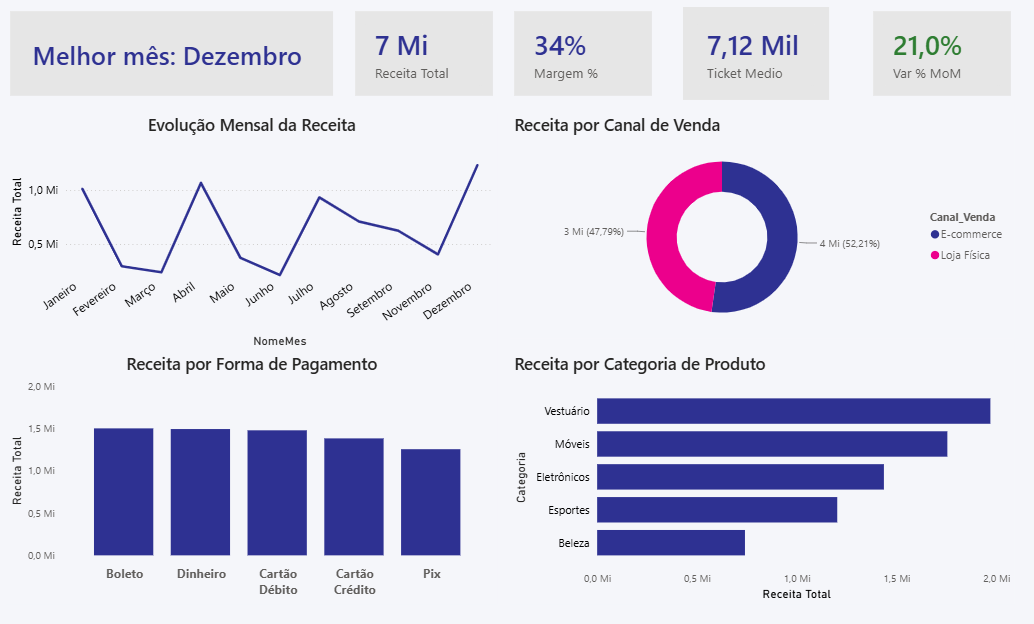

The page's visual inventory and layout, read from the dashboard file:
{"tool":"powerbi","page":{"name":"Visão Geral","canvas":[1280,720],"ordinal":0},"visuals":[{"type":"cardVisual","fields":{"Data":["Medidas.Receita Total"]},"box":[448,0,176,112],"z":0},{"type":"cardVisual","fields":{"Data":["Medidas.Var % MoM"]},"box":[1072,0,176,112],"z":1000},{"type":"cardVisual","fields":{"Data":["Medidas.Ticket Medio"]},"box":[848,0,176,112],"z":2000},{"type":"cardVisual","fields":{"Data":["Medidas.Margem %"]},"box":[640,0,176,112],"z":3000},{"type":"lineChart","title":"Evolução Mensal da Receita","fields":{"Category":["Calendario.NomeMes"],"Y":["Medidas.Receita Total"]},"box":[32,128,592,288],"z":4000},{"type":"donutChart","title":"Receita por Canal de Venda","fields":{"Category":["Vendas.Canal_Venda"],"Y":["Medidas.Receita Total"]},"box":[640,128,608,272],"z":5000},{"type":"clusteredBarChart","title":"Receita por Categoria de Produto","fields":{"Category":["Produtos.Categoria"],"Y":["Medidas.Receita Total"]},"box":[640,416,608,304],"z":6000},{"type":"cardVisual","fields":{"Data":["Medidas.Mes Destaque"]},"box":[32,0,400,112],"z":7000},{"type":"clusteredColumnChart","title":"Receita por Forma de Pagamento","fields":{"Category":["Vendas.Forma_Pagamento"],"Y":["Medidas.Receita Total"]},"box":[32,416,592,304],"z":8002}]}

Visuals, with their boxes on the page's 1280x720 design canvas (x1, y1, x2, y2). These are canvas units, not pixel positions in the 1034x624 screenshot, which may show the page scaled, cropped or inside an application window:
cardVisual - Medidas.Receita Total: box(448, 0, 624, 112)
cardVisual - Medidas.Var % MoM: box(1072, 0, 1248, 112)
cardVisual - Medidas.Ticket Medio: box(848, 0, 1024, 112)
cardVisual - Medidas.Margem %: box(640, 0, 816, 112)
"Evolução Mensal da Receita" lineChart: box(32, 128, 624, 416)
"Receita por Canal de Venda" donutChart: box(640, 128, 1248, 400)
"Receita por Categoria de Produto" clusteredBarChart: box(640, 416, 1248, 720)
cardVisual - Medidas.Mes Destaque: box(32, 0, 432, 112)
"Receita por Forma de Pagamento" clusteredColumnChart: box(32, 416, 624, 720)
